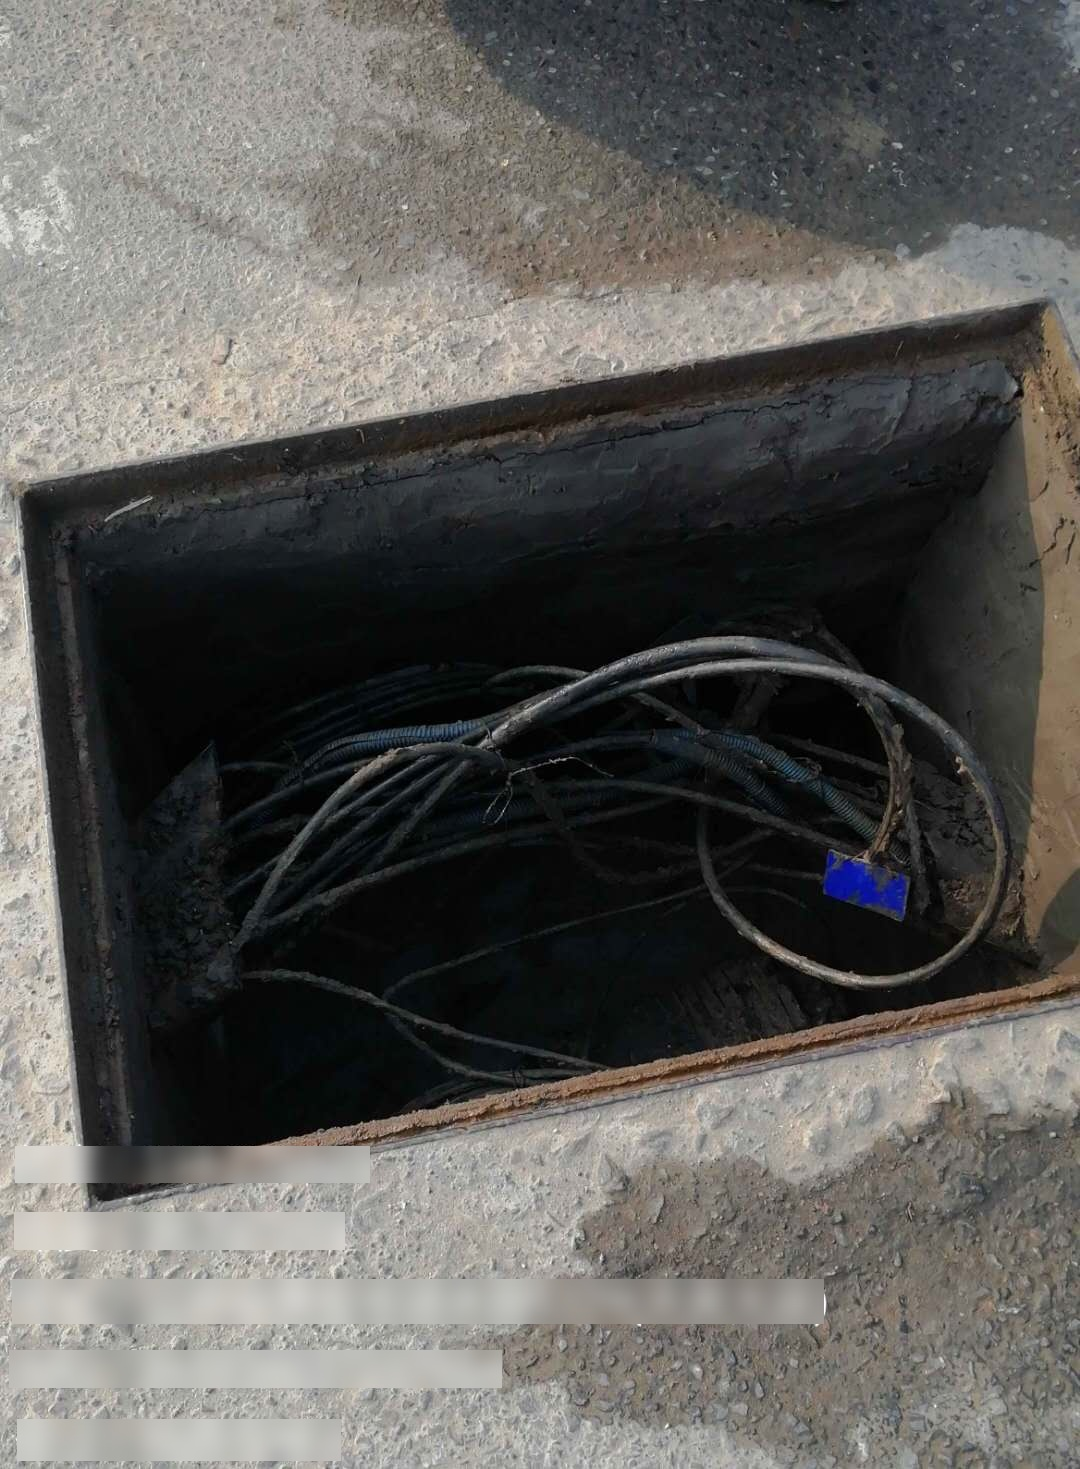well: (13, 289, 1078, 1214)
